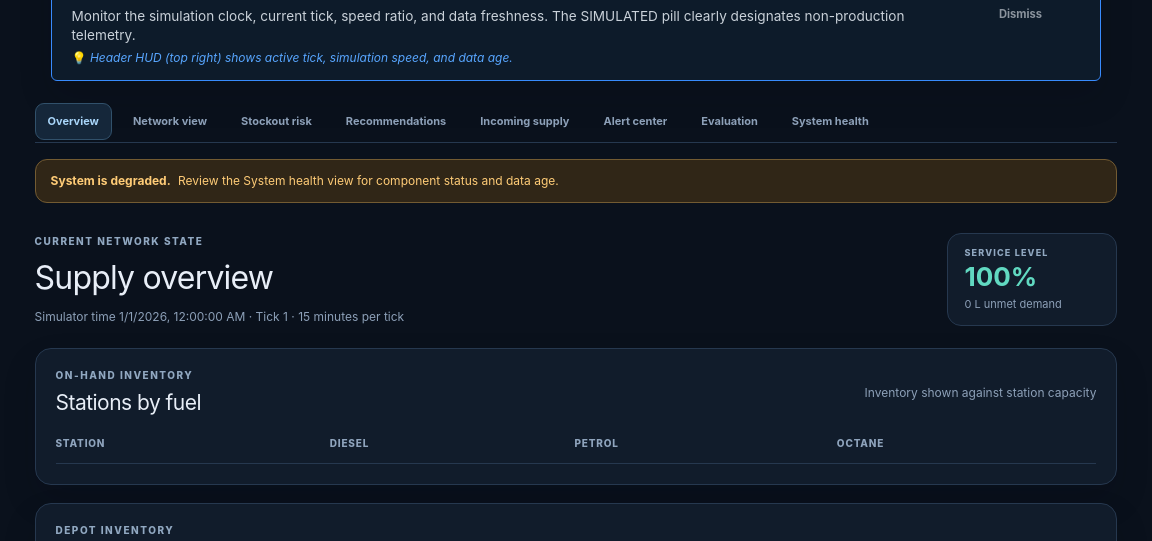
Test: operator application › keeps the operator token in memory and sends it only with approval
The image size is (1152, 541).
expect the heading "Supply overview" is shown: met, box [34,258,273,296]
Click the button "Recommendations" at (396, 122), box [333,103,459,140]
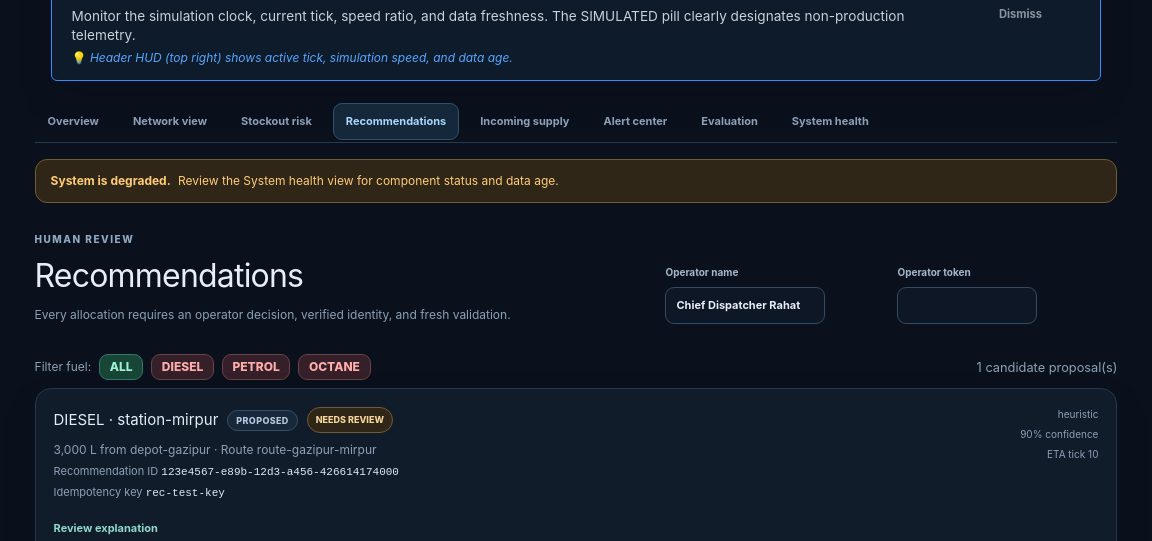
expect the heading "DIESEL · station-mirpur" is shown: met, box [54,409,218,431]
Type "session-only-token" into the password field labelled "Operator token" at (968, 306), box [898,287,1038,324]
(page scrolled)
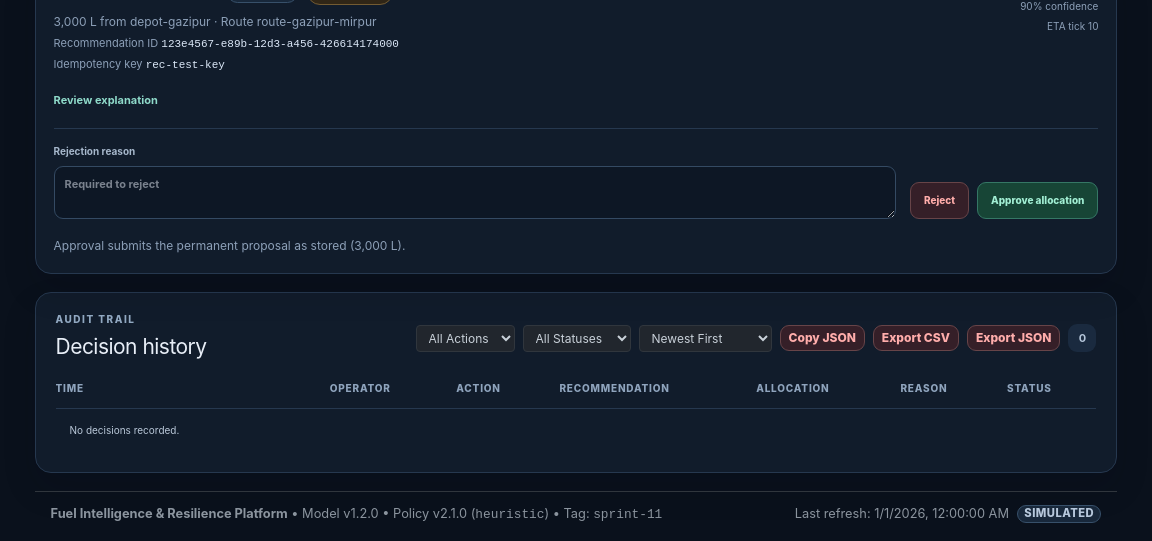
Click the button "Approve allocation" at (1038, 201), box [977,182,1098,219]
(page scrolled)
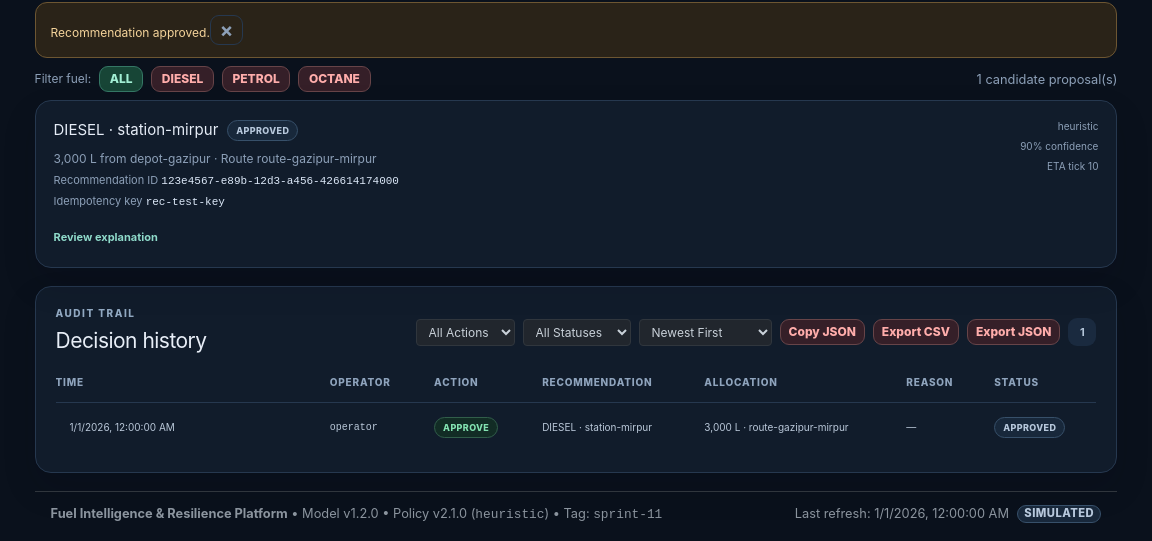
expect the text "Recommendation approved." is shown: met, box [50,25,210,40]
